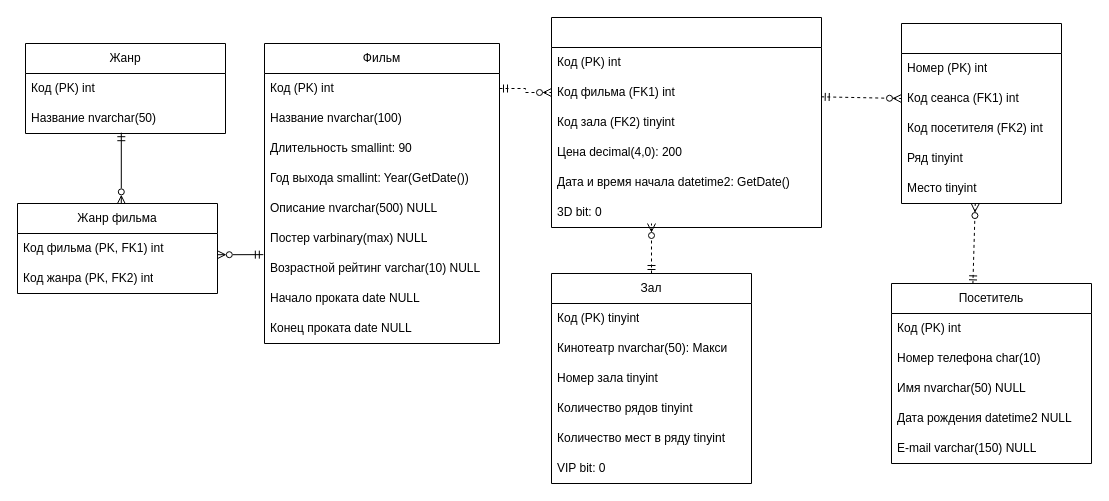
Some shapes in this 1109 by 501 pixel diagram are drawn without their labels. Each missing label, with the box of its shape:
Билет: (900, 22, 1062, 204)
Сеанс: (550, 16, 822, 228)
